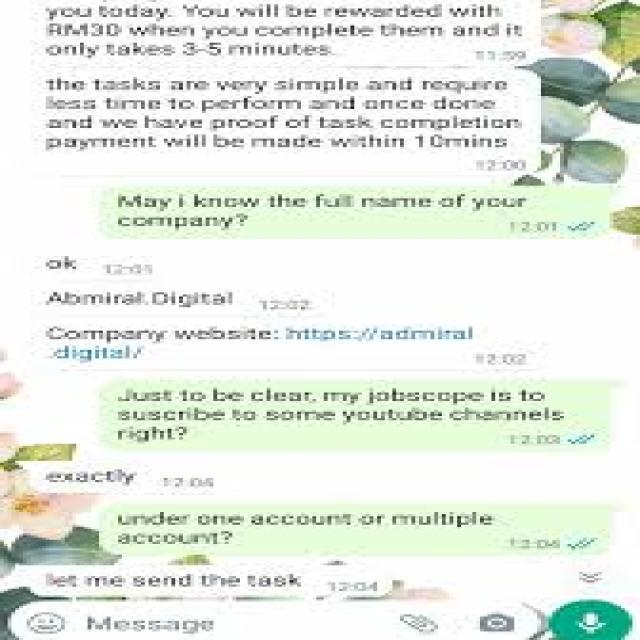scam: (31, 70, 529, 172), (44, 0, 536, 62), (31, 320, 534, 376), (41, 286, 323, 322), (34, 568, 388, 594), (28, 454, 216, 488), (33, 250, 169, 284)
